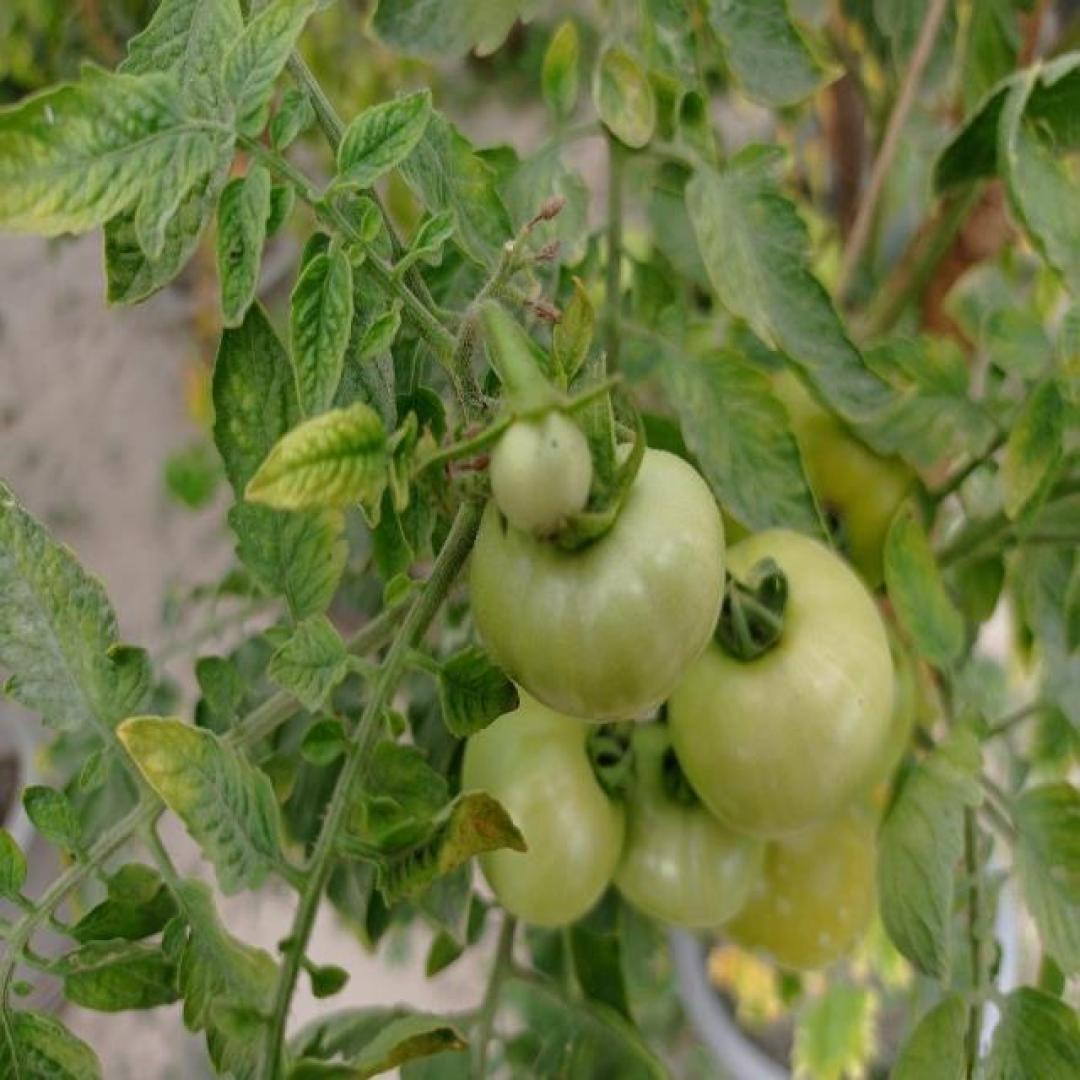mentah: (468, 439, 726, 719), (666, 524, 892, 840), (461, 674, 626, 926), (486, 402, 591, 533)
